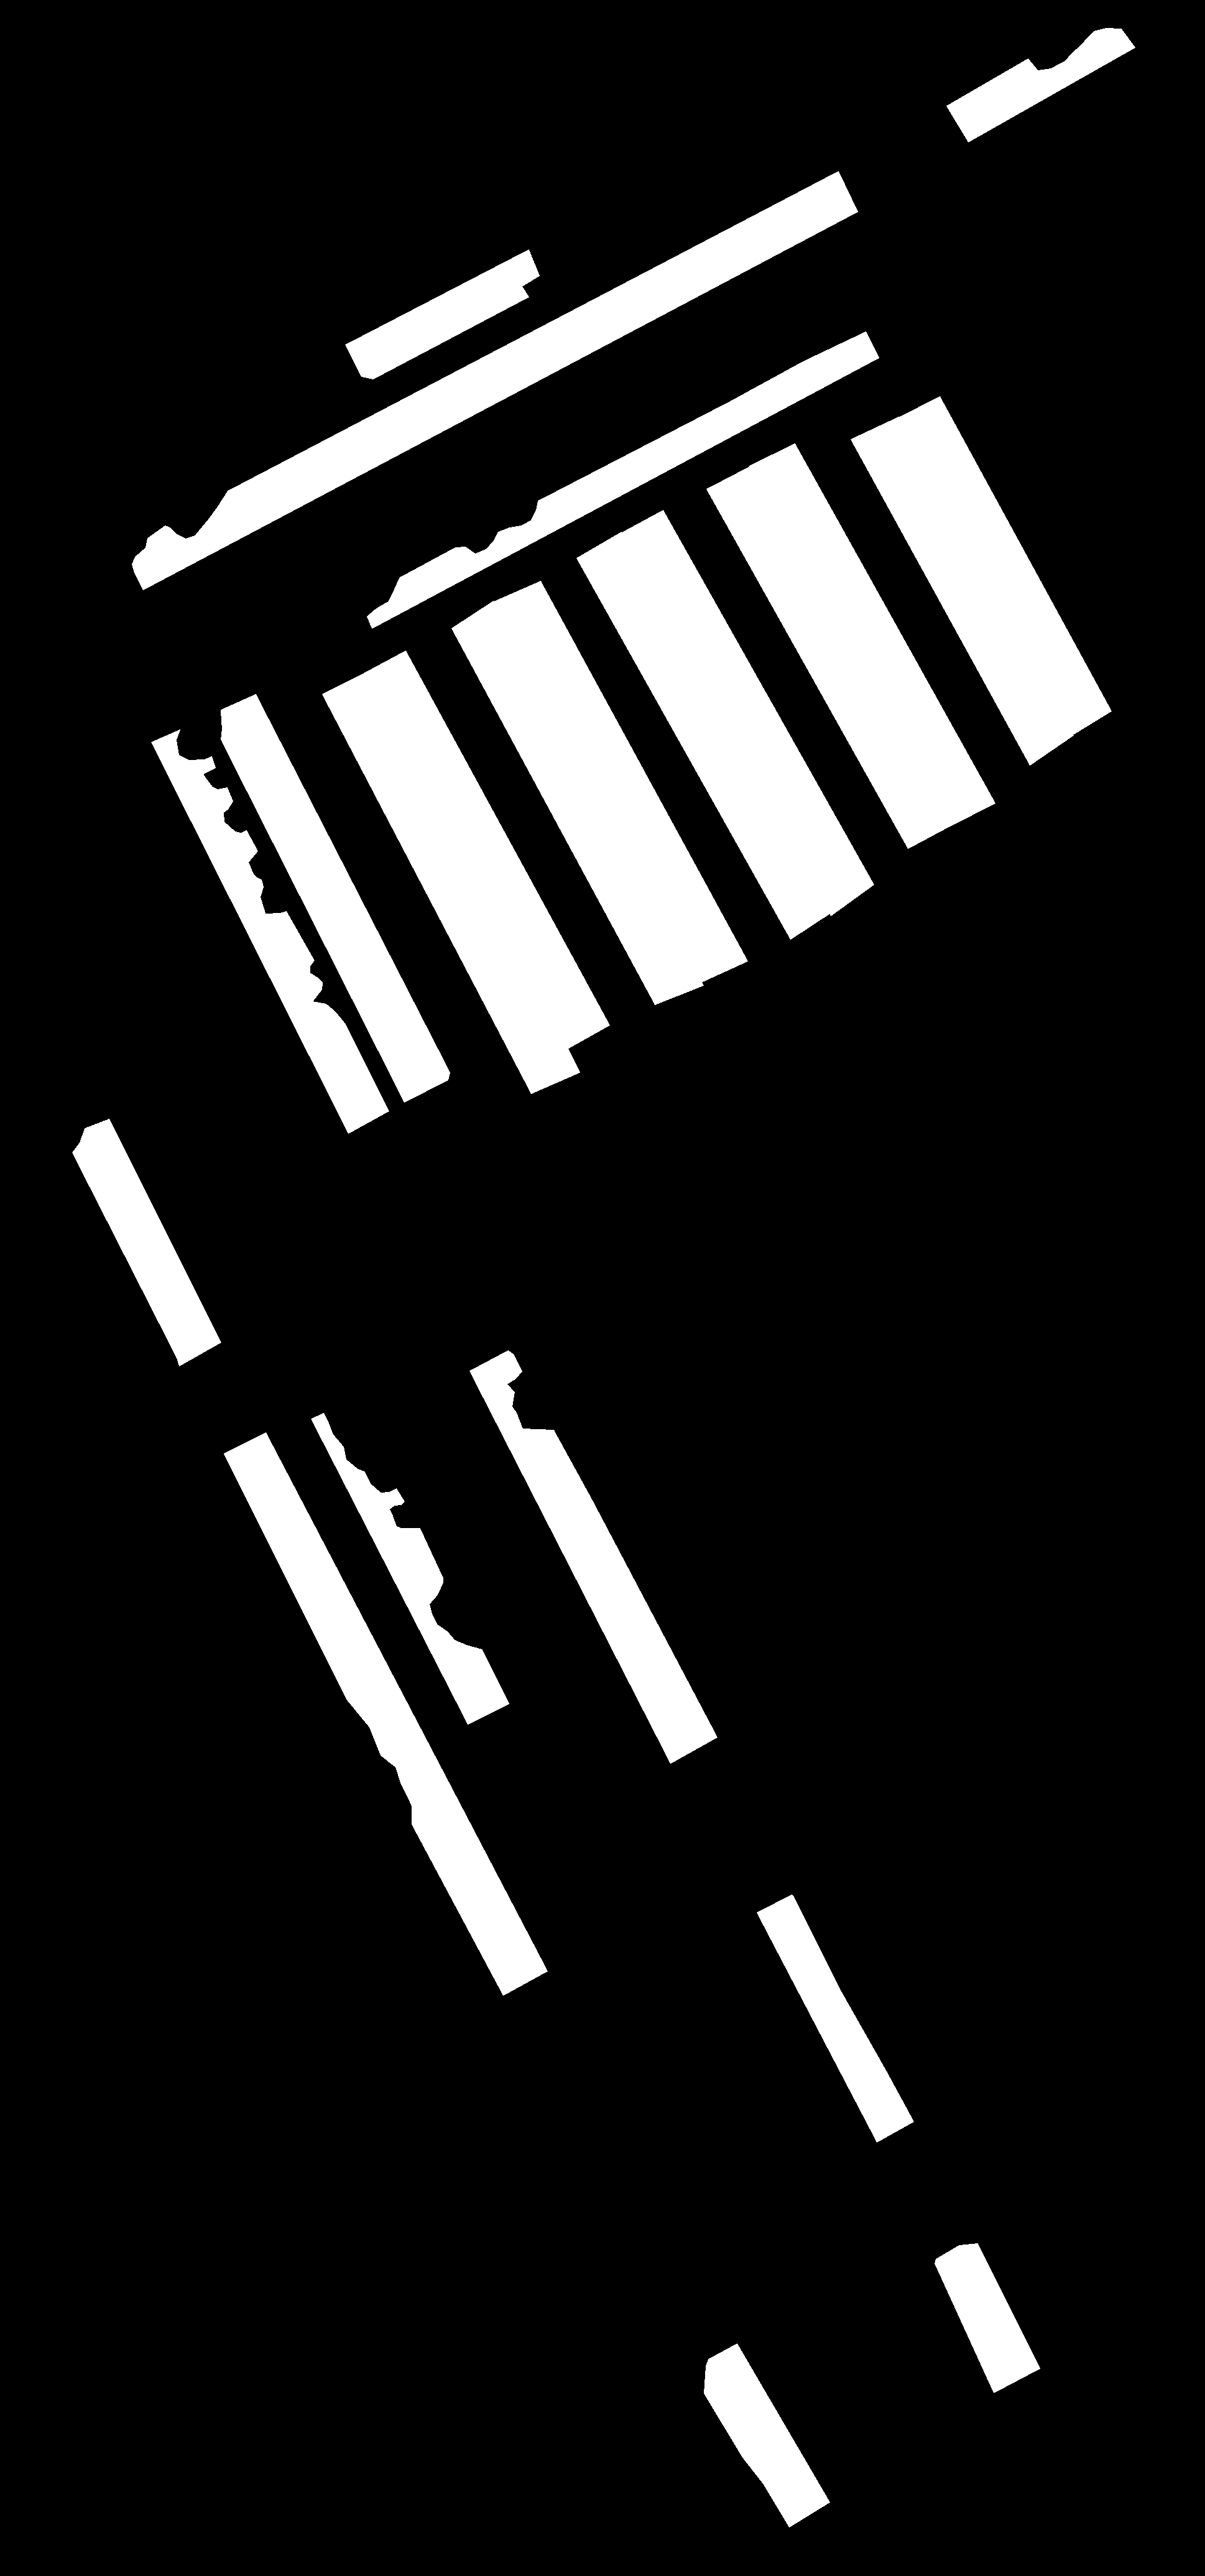parkingspot: (131, 171, 857, 590), (223, 1433, 547, 1994), (366, 332, 878, 628), (322, 672, 580, 1094), (576, 532, 834, 940), (617, 509, 873, 915), (491, 582, 747, 984), (470, 1350, 717, 1763), (451, 601, 703, 1004), (364, 651, 609, 1050), (151, 729, 389, 1134), (706, 465, 954, 848), (749, 444, 995, 826), (220, 693, 450, 1102), (850, 417, 1074, 766), (895, 396, 1111, 738), (310, 1413, 509, 1723), (757, 1894, 913, 2142), (72, 1119, 220, 1365), (345, 250, 538, 379), (704, 2343, 829, 2527), (946, 28, 1134, 141), (934, 2242, 1039, 2392)
